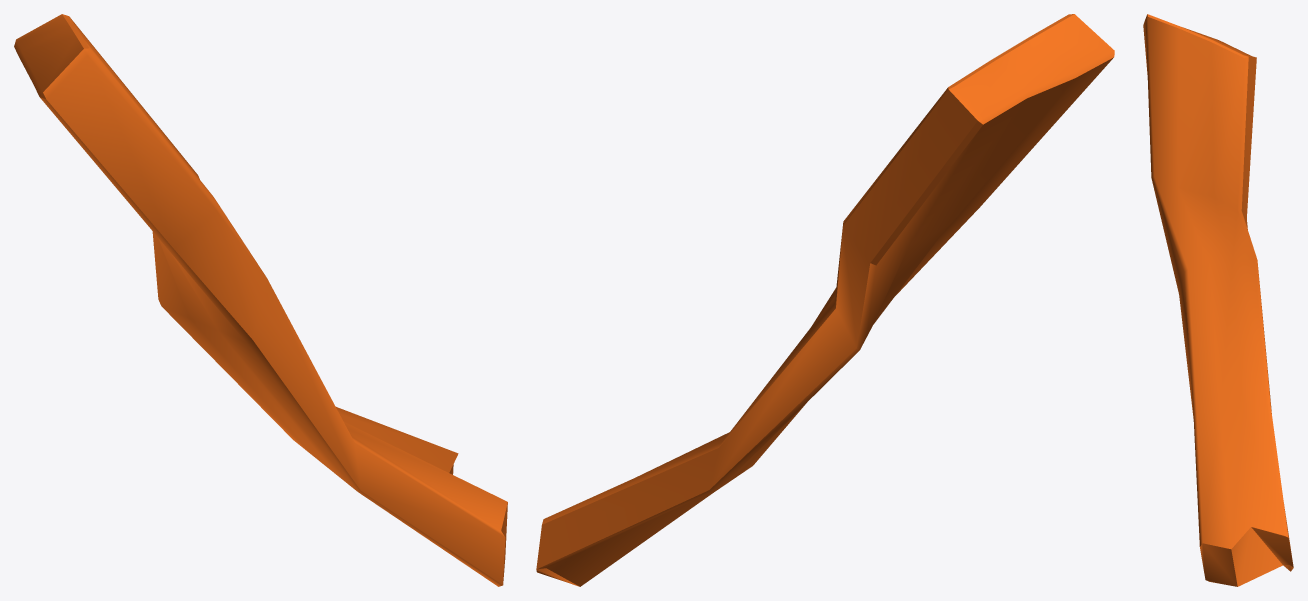
The model's file is Farme_Planche01.fbx.
The picture shows the model from 3 angles, left to right: view 1: azimuth 30°, elevation 25°; view 2: azimuth 150°, elevation 25°; view 3: azimuth 270°, elevation 25°; orthographic projection. The views are drawn at different scales.
Parts seen in each view (by area): view 1: Farme_Planche01; view 2: Farme_Planche01; view 3: Farme_Planche01.
Part boxes in pixels (x1,y1,x2,y2): Farme_Planche01: (14,14,507,586); Farme_Planche01: (536,14,1114,586); Farme_Planche01: (1143,14,1293,586).
Bounding box in the file's own units: 426 × 520 × 166.
